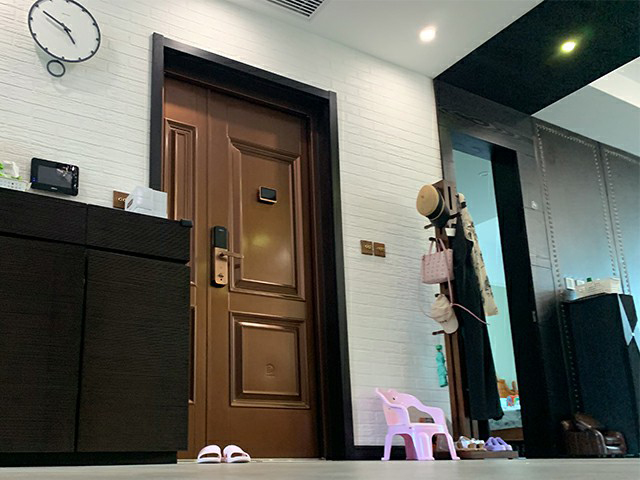cabinet: (1, 184, 192, 467)
slippers: (195, 443, 222, 464), (223, 443, 250, 464)
sofa: (559, 412, 630, 459)
stool: (375, 386, 462, 462)
